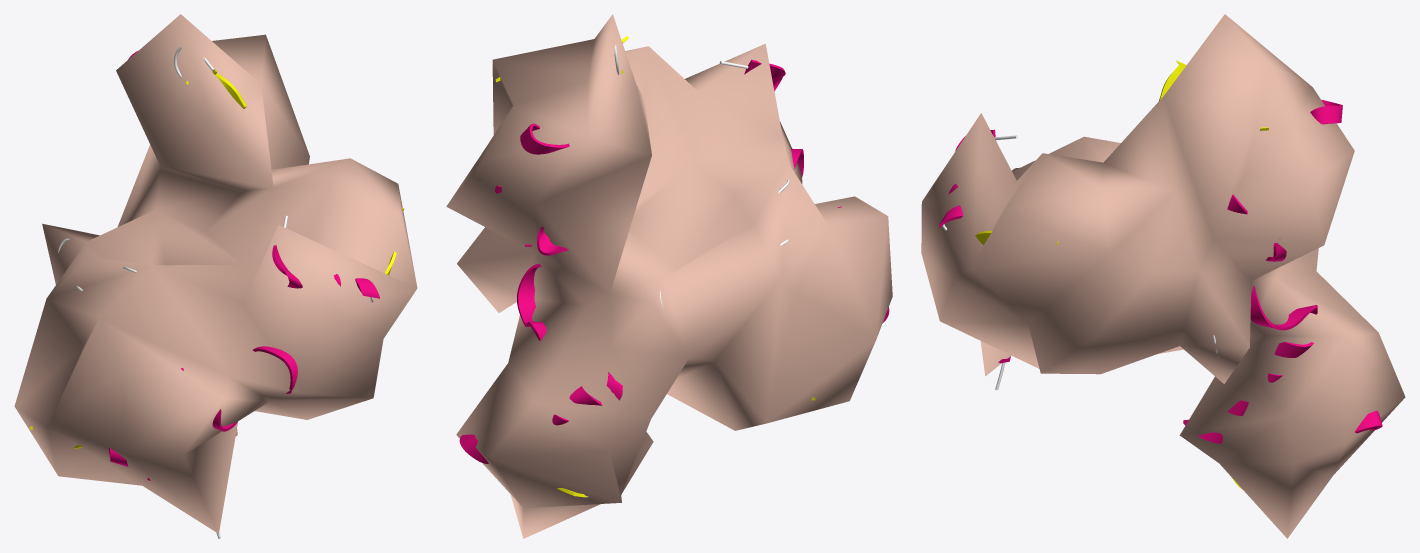
Rendered from cap-camp-coarse.fbx.
The picture shows the model from 3 angles, left to right: view 1: azimuth 30°, elevation 25°; view 2: azimuth 150°, elevation 25°; view 3: azimuth 270°, elevation 25°; orthographic projection. The views are drawn at different scales.
Parts seen in each view (by area): view 1: CoarseMS_1g6n_1, 1g6n_A_Helix1, 1g6n_A_Helix2; view 2: CoarseMS_1g6n_1, 1g6n_B_Helix6, 1g6n_B_Helix3, 1g6n_A_Helix6; view 3: CoarseMS_1g6n_1, 1g6n_B_Helix4, 1g6n_A_Helix6.
Part boxes in pixels (x1,y1,x2,y2): CoarseMS_1g6n_1: (14,14,417,533); 1g6n_A_Helix1: (272,245,379,298); 1g6n_A_Helix2: (262,346,297,393); CoarseMS_1g6n_1: (446,14,892,538); 1g6n_B_Helix6: (459,372,622,463); 1g6n_B_Helix3: (517,263,541,324); 1g6n_A_Helix6: (495,123,569,193); CoarseMS_1g6n_1: (921,14,1405,538); 1g6n_B_Helix4: (1183,305,1317,443); 1g6n_A_Helix6: (1265,100,1342,261).
Bounding box in the file's own units: 53.57 × 72.95 × 64.27.
